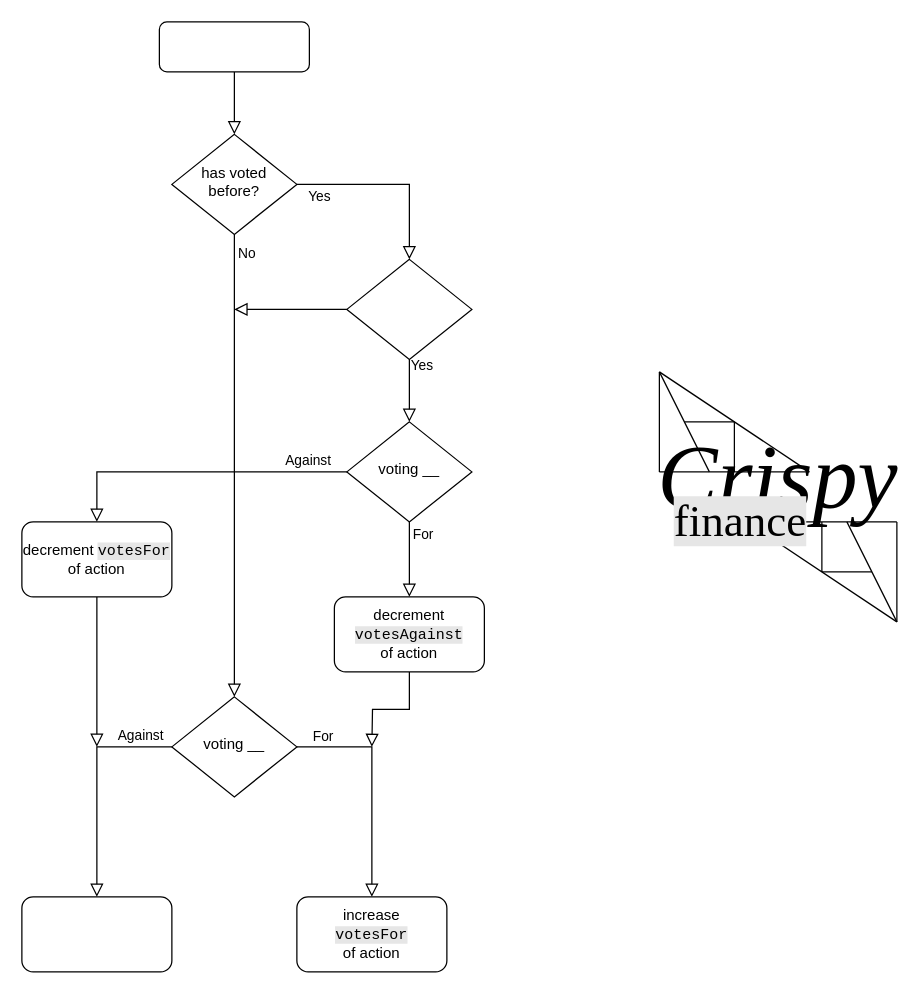
Some shapes in this 920 by 994 pixel diagram are drawn without their labels. Each missing label, with the centre of its shape:
changing vote for/against ?: pixel 409 308
increase votesAgainst of action: pixel 96 934
user wants to vote: pixel 233 46
